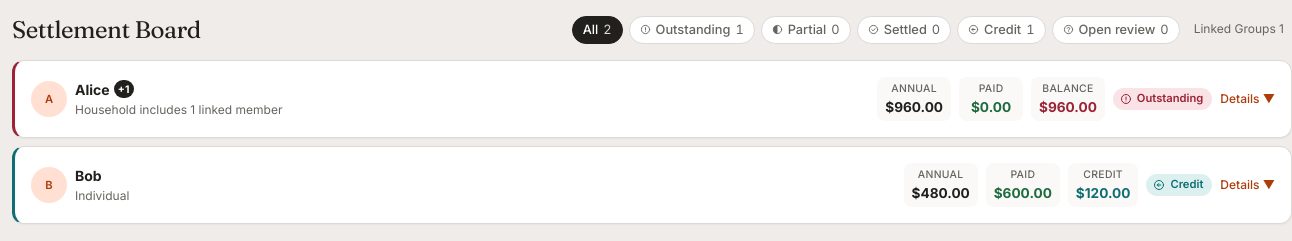
Test: SettlementBoard › counts and filters households holding a Credit
Expected: the 2nd text "1" is shown, [1026, 21, 1034, 39]
Step 1. Click the button "Credit 1" → x=1001, y=30, box [957, 16, 1046, 44]
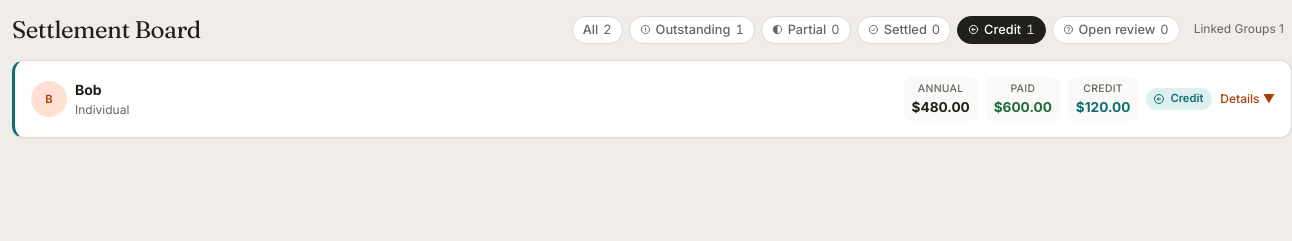
Expected: the text "Bob" is shown, [75, 79, 102, 100]
Result: the text "Alice" is gone
